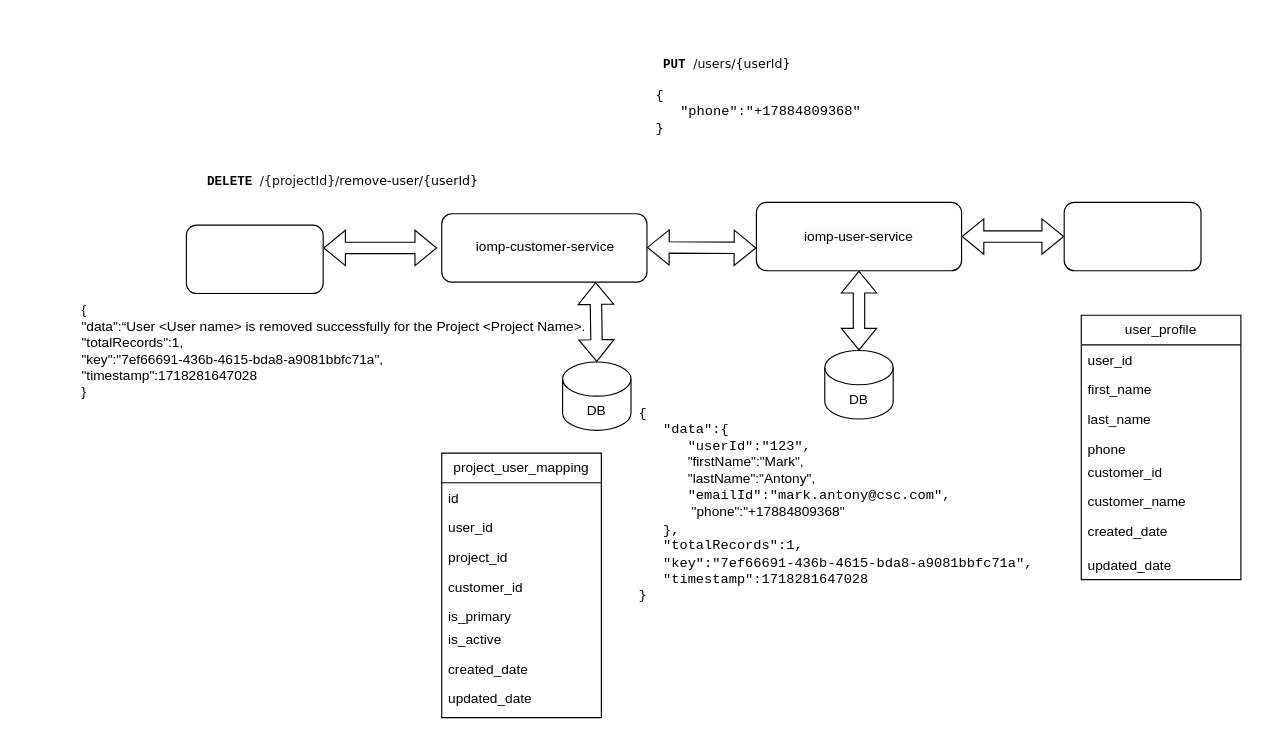
Some shapes in this 1261 by 740 pixel diagram are drawn without their labels. Each missing label, with the centre of its shape:
"Customer POST" belongs at point 254,259.
"IAM" belongs at point 1132,236.
